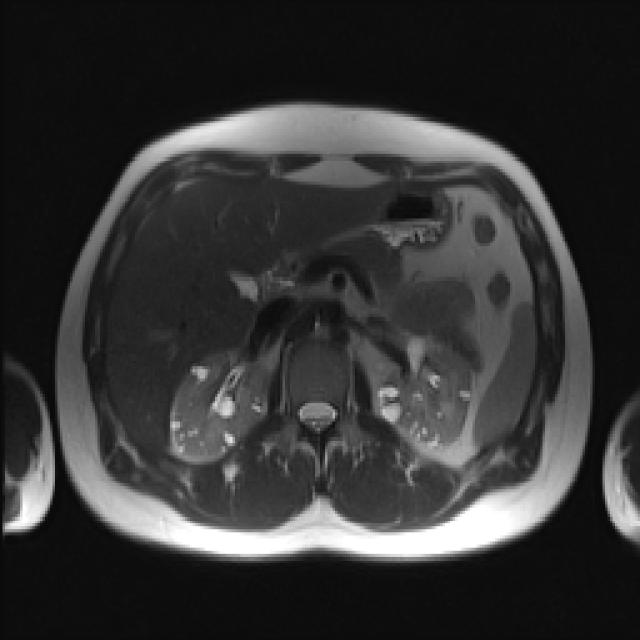sag: (168, 349, 271, 457)
sol: (378, 335, 473, 444)
